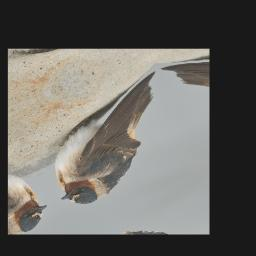Swallow: (25, 70, 199, 214)
